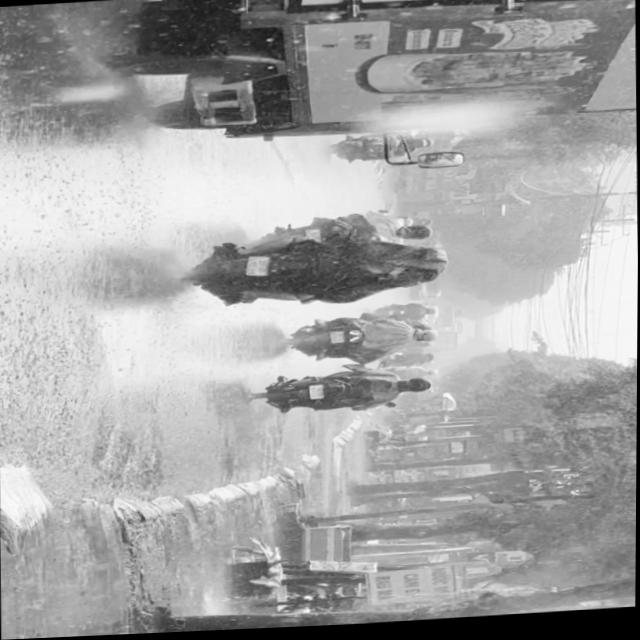licenseplate: (170, 215, 462, 317), (257, 365, 437, 419)
motorcyclist: (402, 379, 434, 397)
nohelmet: (247, 257, 269, 277), (311, 386, 326, 401)
